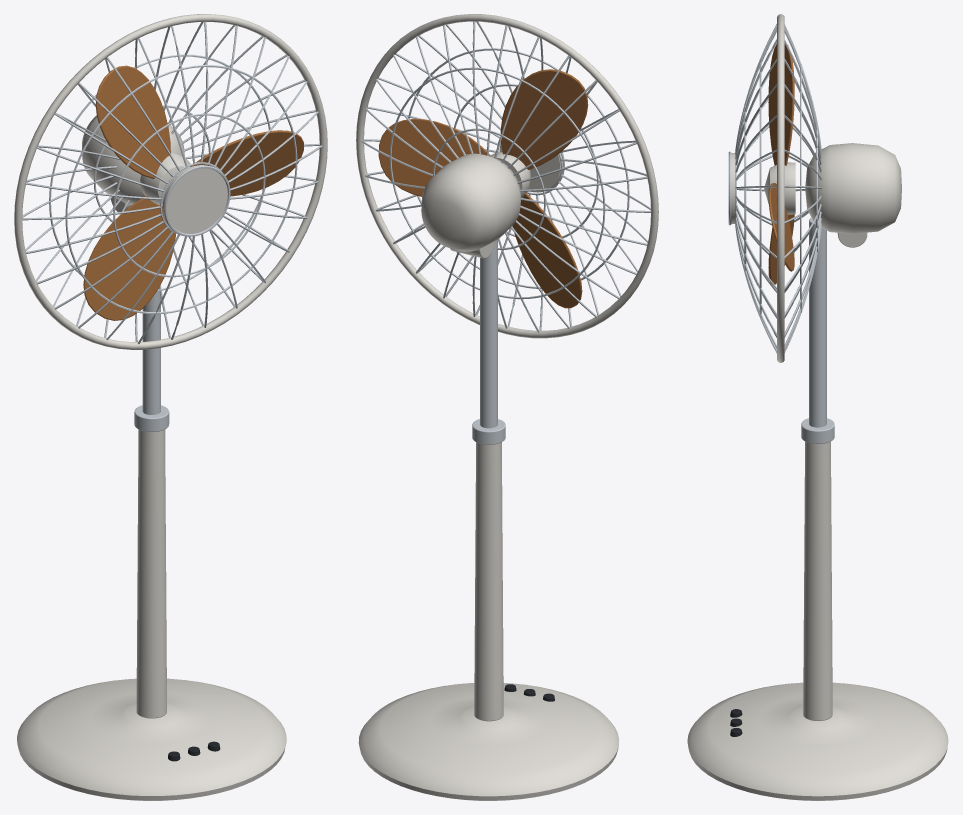
File: standing-fan.glb
3 views of the same model, side by side, from view 1: azimuth 30°, elevation 25°; view 2: azimuth 150°, elevation 25°; view 3: azimuth 270°, elevation 25° (orthographic). The views are drawn at different scales.
Visible parts, largest first — view 1: base, rim, pole-lower, blade-1, blade-2, blade-0, badge, motor, pole, ring--1-0.26, ring--1-0.17, ring-1-0.25 (+3 smaller); view 2: base, pole-lower, rim, motor, blade-2, blade-0, blade-1, pole, ring-1-0.25, ring--1-0.26, badge, collar (+2 smaller); view 3: base, pole-lower, motor, pole, rim, blade-2, hub, blade-0, ring--1-0.26, collar, blade-1.
Boxes of the visible parts, <box> form: base: <box>17,678,286,800</box>; rim: <box>14,14,327,349</box>; pole-lower: <box>136,429,166,718</box>; blade-1: <box>83,195,175,320</box>; blade-2: <box>95,65,170,178</box>; blade-0: <box>190,130,303,196</box>; badge: <box>162,165,227,233</box>; motor: <box>82,115,184,204</box>; pole: <box>142,288,160,414</box>; ring--1-0.26: <box>65,65,297,314</box>; ring--1-0.17: <box>113,113,265,277</box>; ring-1-0.25: <box>49,54,270,291</box>; base: <box>358,683,619,800</box>; pole-lower: <box>474,442,503,721</box>; rim: <box>356,14,658,338</box>; motor: <box>421,153,521,251</box>; blade-2: <box>500,69,588,169</box>; blade-0: <box>378,119,490,196</box>; blade-1: <box>512,193,582,308</box>; pole: <box>480,239,497,428</box>; ring-1-0.25: <box>389,67,605,299</box>; ring--1-0.26: <box>408,48,629,288</box>; badge: <box>499,143,562,192</box>; collar: <box>472,419,505,444</box>; base: <box>687,682,948,800</box>; pole-lower: <box>803,441,832,720</box>; motor: <box>805,143,901,233</box>; pole: <box>809,218,826,427</box>; rim: <box>777,14,784,362</box>; blade-2: <box>768,44,794,165</box>; hub: <box>764,162,795,214</box>; blade-0: <box>768,183,794,271</box>; ring--1-0.26: <box>759,59,761,317</box>; collar: <box>801,418,834,443</box>; blade-1: <box>768,214,794,284</box>.
Size of the model in its own units: 0.706 by 1.6 by 0.528.
